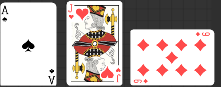8D: (132, 77, 149, 84)
9D: (194, 31, 211, 37)
AC: (46, 67, 55, 84)
